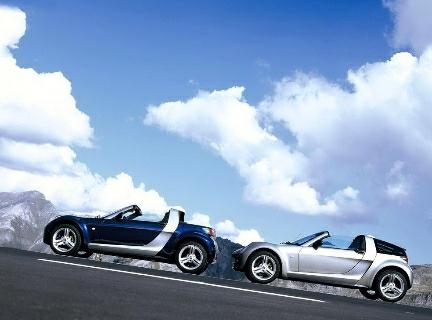本田-FCX: (238, 224, 419, 310), (38, 200, 221, 278)
